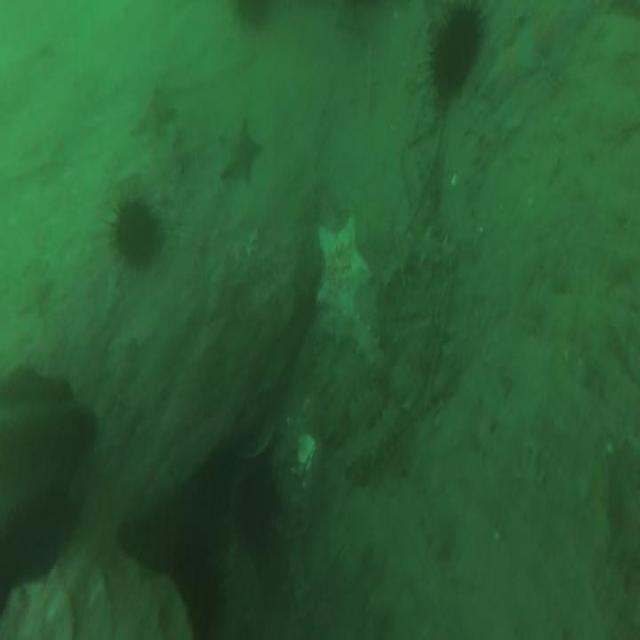echinus: (430, 9, 478, 87), (238, 466, 276, 563), (116, 205, 158, 264)
holothurian: (350, 398, 400, 473), (386, 228, 452, 276), (345, 324, 385, 368)
starfish: (316, 218, 368, 318), (486, 33, 540, 101), (220, 125, 262, 182), (134, 93, 175, 139)
